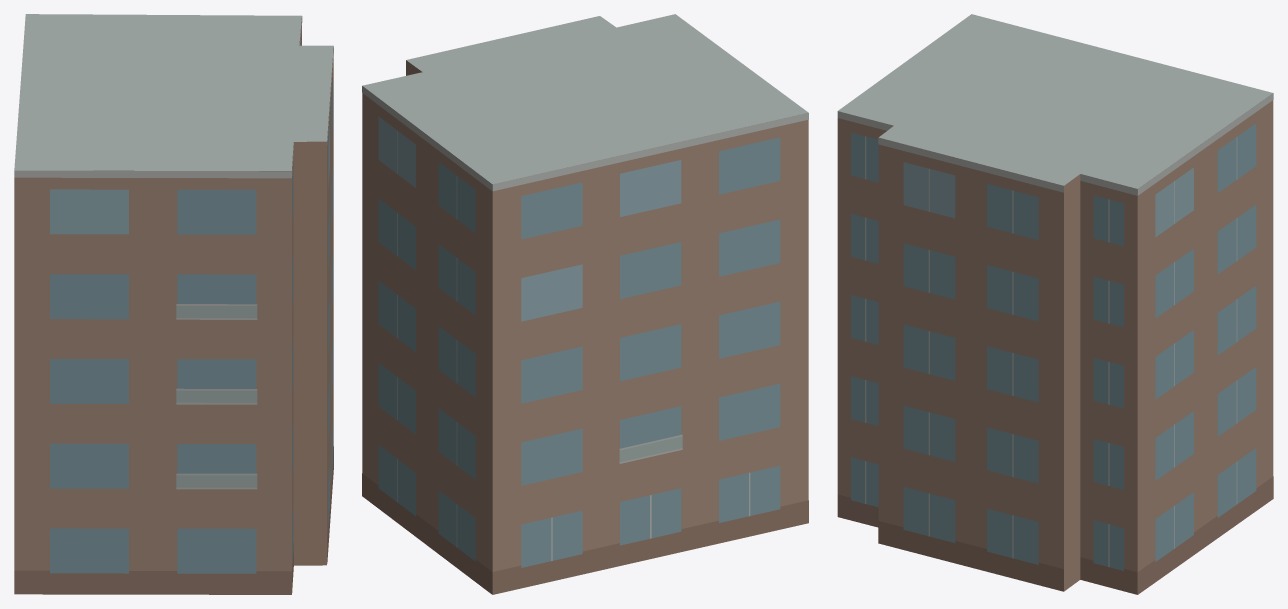
Rendered from survey-upis-32707408.glb.
3 views of the same model, side by side, from view 1: azimuth 30°, elevation 25°; view 2: azimuth 150°, elevation 25°; view 3: azimuth 270°, elevation 25° (orthographic). The views are drawn at different scales.
Parts seen in each view (by area): view 1: survey-upis-32707408.tmp; view 2: survey-upis-32707408.tmp; view 3: survey-upis-32707408.tmp.
Boxes of the visible parts, x1,y1,x2,y2 form: survey-upis-32707408.tmp: (14,14,333,594); survey-upis-32707408.tmp: (362,14,808,594); survey-upis-32707408.tmp: (837,14,1273,594).
Bounding box in the file's own units: 13.32 × 14.4 × 14.02.
